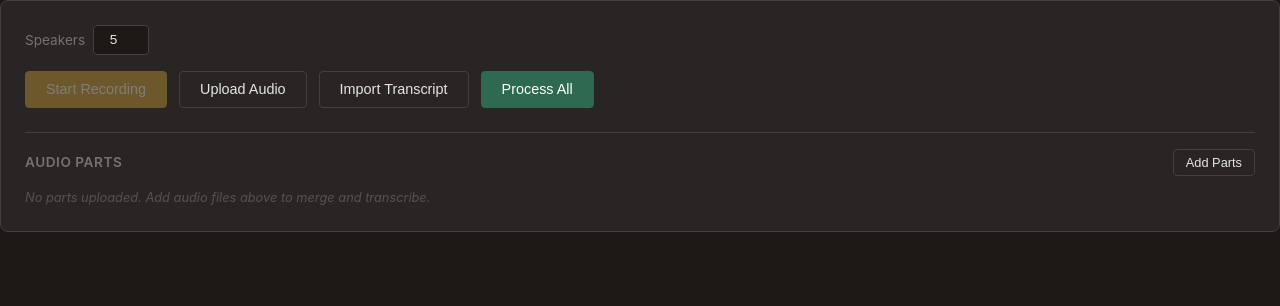
Scenario: RecordingControls › disables speakers input when pipeline is running
What coordinates should you click on to do the following:
click the button "Process All"
I would click on:
 (537, 89)
Its box is [481,71,594,108].
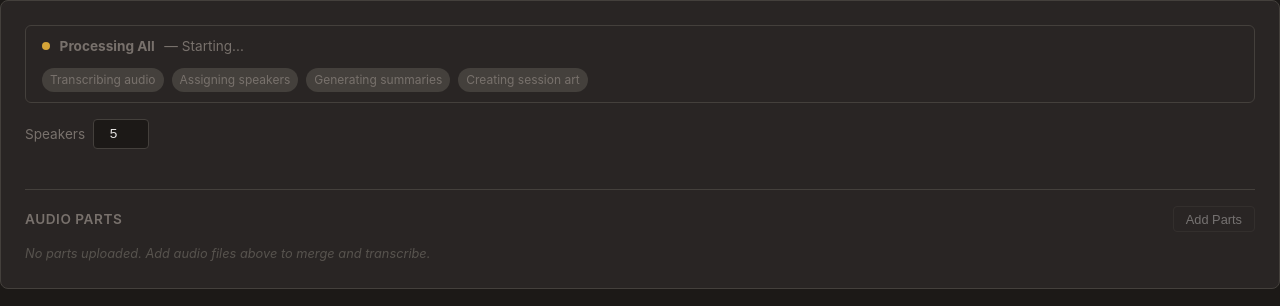
Expected: the number field with class "speakers-input" is disabled, [93,119,149,149]
